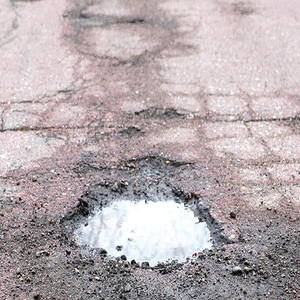pothole: (62, 187, 233, 276)
